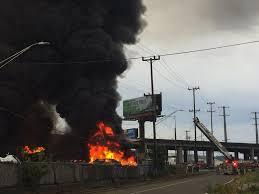fire: (93, 126, 115, 160)
smoke: (1, 2, 117, 124)
